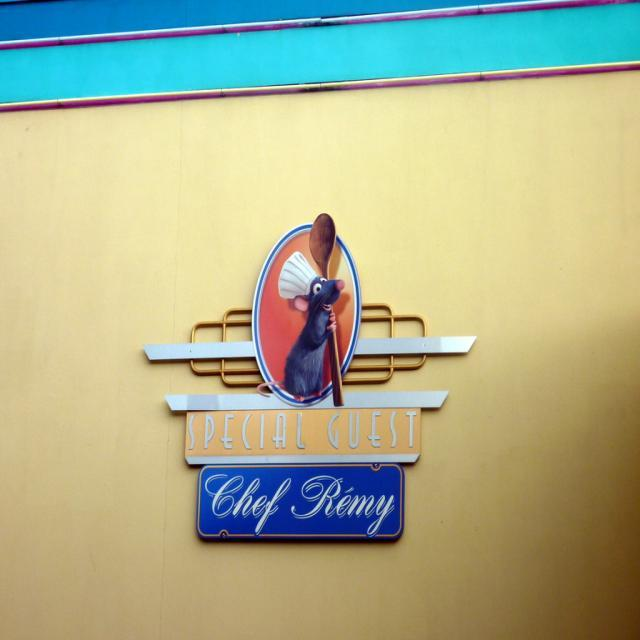rat: (255, 274, 346, 404)
